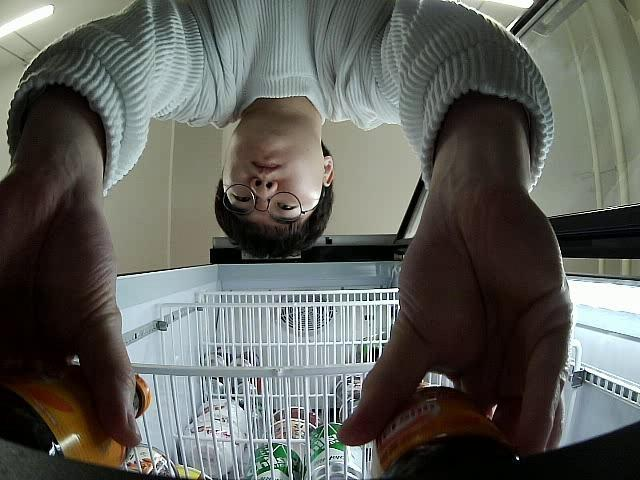17_vita500: (368, 380, 522, 480), (0, 372, 148, 468)
